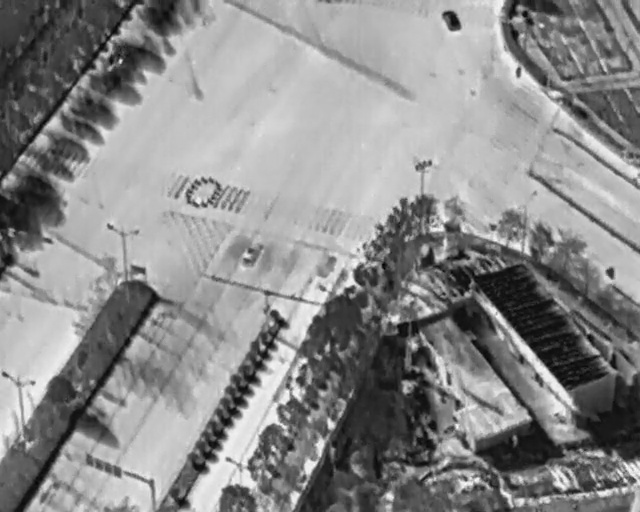Car: (239, 237, 264, 268), (440, 8, 462, 34)
